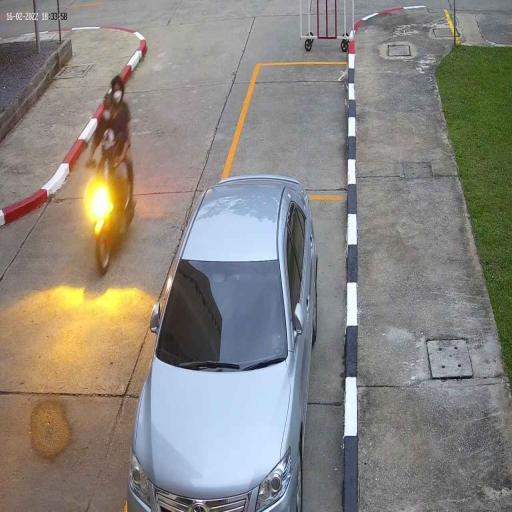car: (127, 171, 321, 512)
motorcycle: (85, 140, 138, 282)
